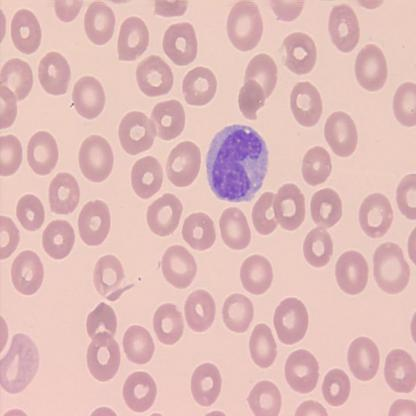Monocyte: (204, 120, 271, 205)
